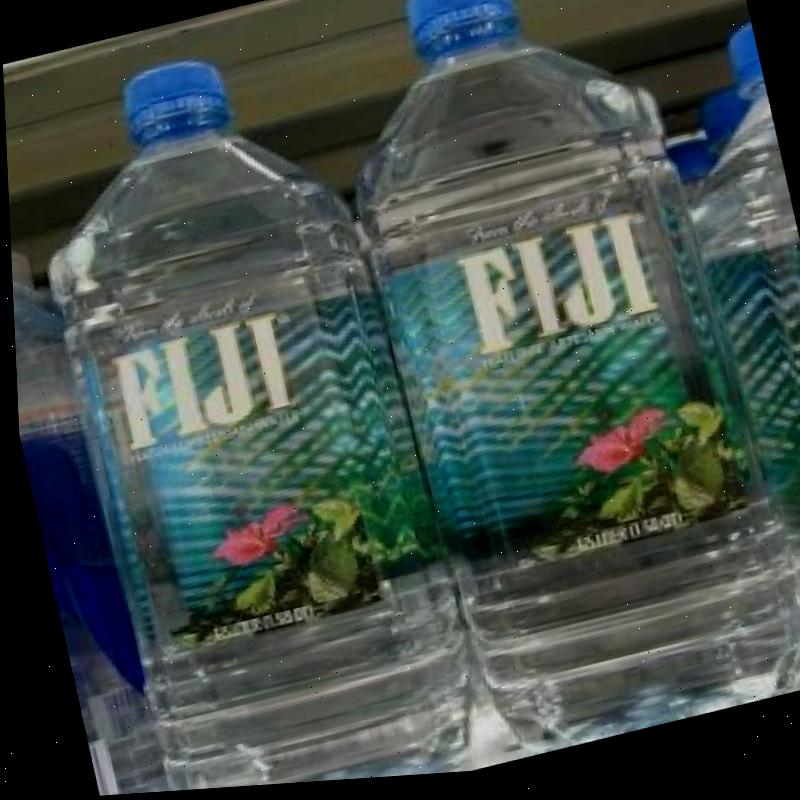botella: (2, 21, 489, 800), (321, 0, 800, 779), (642, 29, 800, 708), (9, 261, 190, 800)
